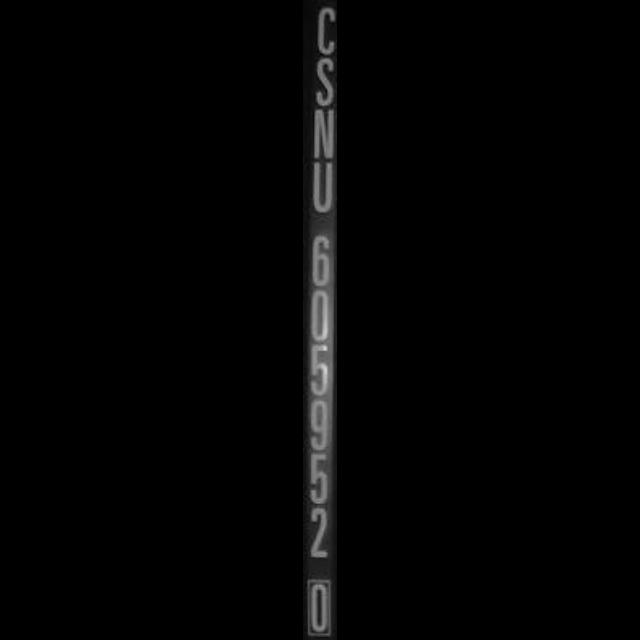0: (303, 572, 337, 640), (303, 283, 337, 343)
2: (303, 500, 337, 564)
5: (303, 340, 337, 398), (303, 448, 337, 502)
6: (303, 231, 337, 287)
9: (303, 395, 337, 453)
c: (312, 1, 336, 54)
n: (308, 106, 337, 162)
s: (308, 52, 337, 108)
u: (308, 158, 337, 218)
